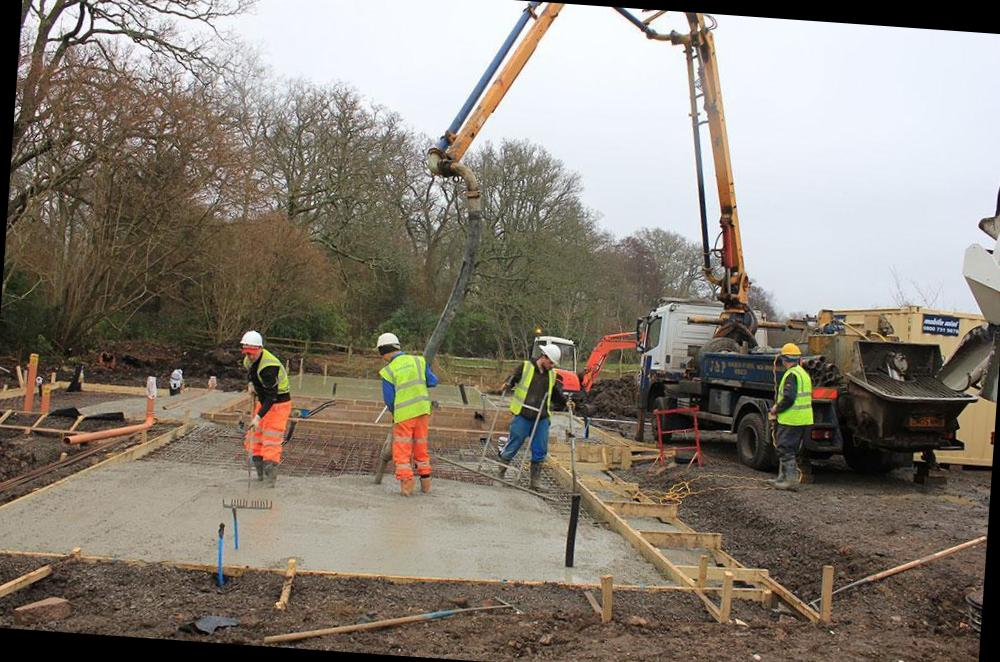Helmet: (536, 337, 568, 366), (366, 331, 400, 355), (238, 324, 265, 354), (775, 338, 806, 363)
Vest: (374, 357, 432, 422), (504, 361, 561, 425), (774, 368, 820, 432), (236, 354, 294, 399)
